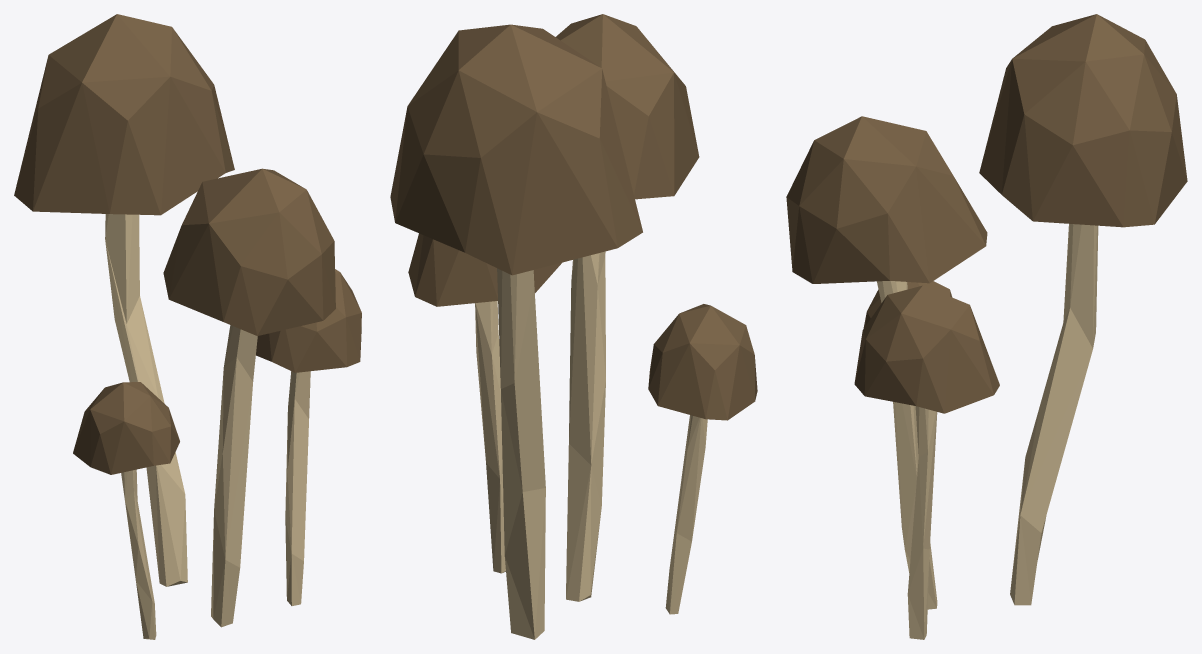
The model's file is Mushroom_01.fbx.
3 views of the same model, side by side, from view 1: azimuth 30°, elevation 25°; view 2: azimuth 150°, elevation 25°; view 3: azimuth 270°, elevation 25° (orthographic). The views are drawn at different scales.
Parts seen in each view (by area): view 1: Mushroom_01; view 2: Mushroom_01; view 3: Mushroom_01.
Boxes of the visible parts, x1,y1,x2,y2 form: Mushroom_01: [14, 14, 361, 639]; Mushroom_01: [390, 14, 757, 639]; Mushroom_01: [786, 14, 1187, 639].
Size of the model in its own units: 7.25 by 13.87 by 8.66.
